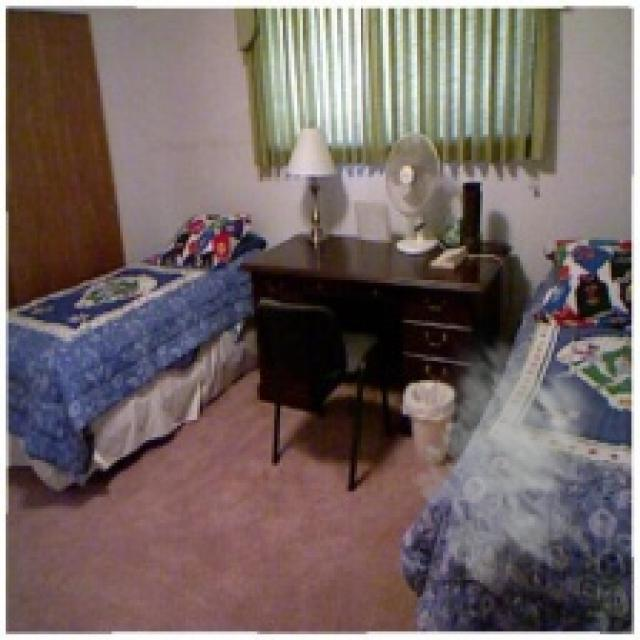Smoke: (408, 326, 628, 606)
